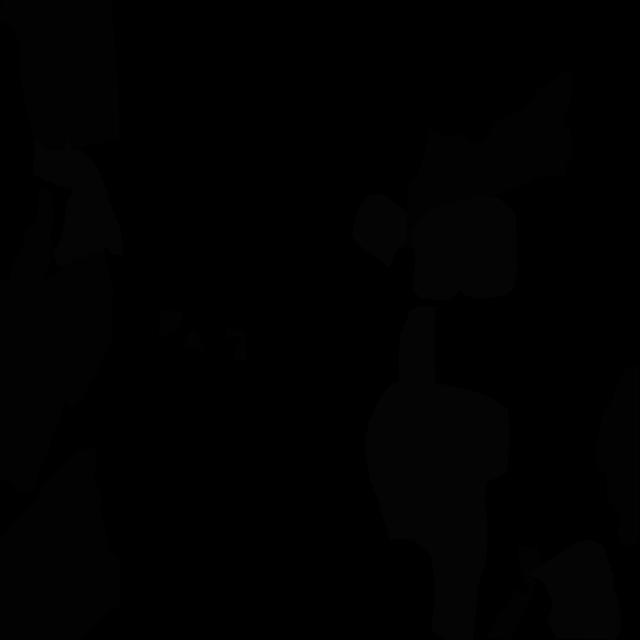cardboard: (406, 69, 574, 249), (0, 448, 121, 640), (0, 0, 120, 149), (10, 189, 97, 364), (0, 278, 67, 494), (50, 249, 114, 407), (595, 364, 639, 547), (485, 545, 541, 640), (224, 328, 247, 361), (159, 310, 183, 337), (182, 329, 206, 351)
soft_plastic: (364, 306, 510, 640), (33, 138, 123, 268), (410, 195, 517, 301), (529, 539, 621, 640), (352, 194, 408, 267)
